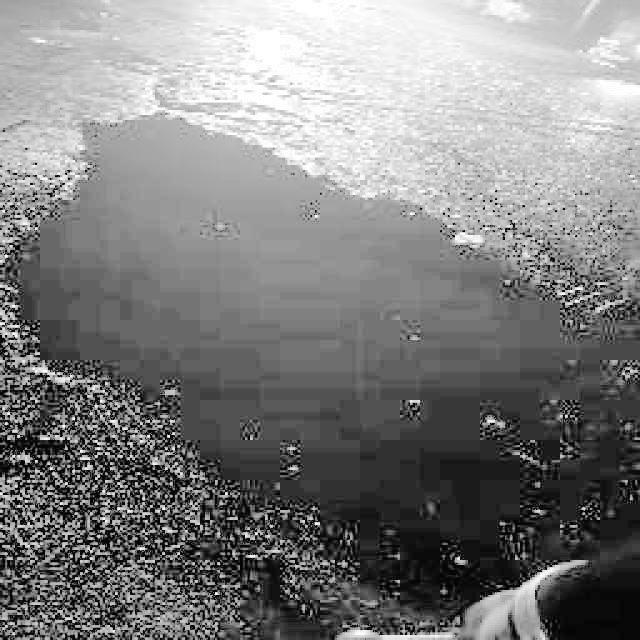Pothole: (0, 98, 640, 604)
